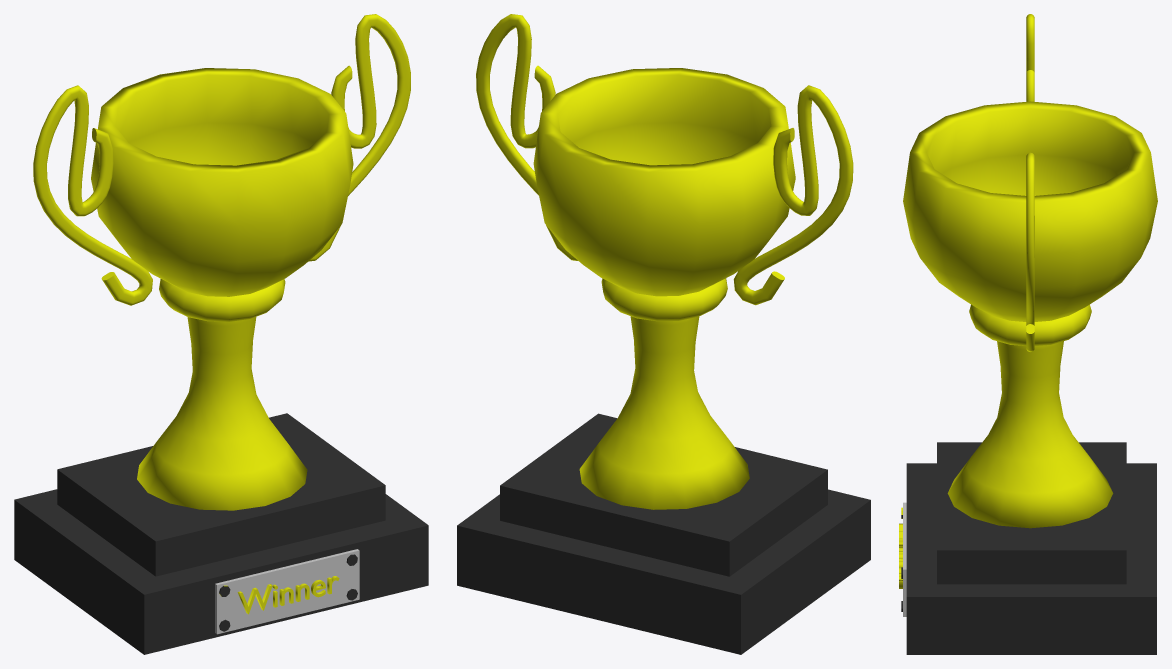
File: Trofeo.glb
3 renders of one model, left to right at view 1: azimuth 30°, elevation 25°; view 2: azimuth 150°, elevation 25°; view 3: azimuth 270°, elevation 25°, orthographic. The views are drawn at different scales.
Visible parts, largest first — view 1: trofeo, orejas_trofeo, texto; view 2: trofeo, orejas_trofeo; view 3: trofeo, orejas_trofeo.
Part boxes in pixels (box(x1,y1,x2,y2)): trofeo: box(14, 68, 428, 654); orejas_trofeo: box(33, 14, 410, 305); texto: box(237, 576, 339, 614); trofeo: box(457, 68, 870, 654); orejas_trofeo: box(476, 14, 853, 305); trofeo: box(901, 101, 1157, 654); orejas_trofeo: box(1026, 14, 1034, 351).
Size of the model in its own units: 2.97 by 3.94 by 1.84.
